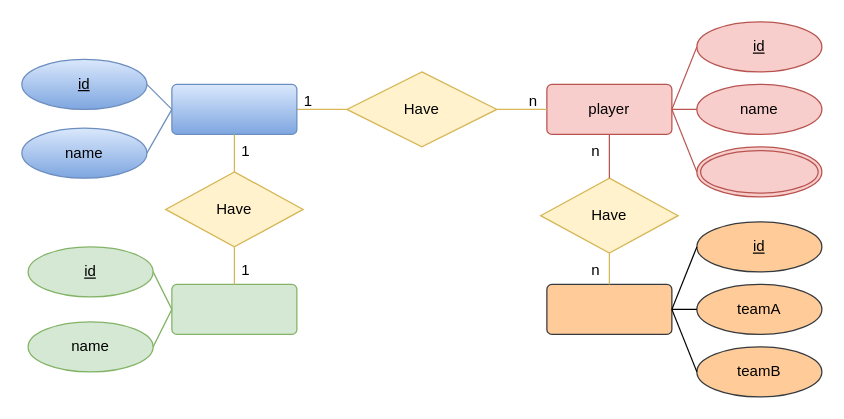
Some shapes in this 844 by 419 pixel diagram are drawn without their labels. The centre of each missing label's shape, as x and y in pixels:
"Manager" belongs at point (234, 308).
"Match" belongs at point (609, 308).
"positions" belongs at point (759, 171).
"Team" belongs at point (234, 108).
